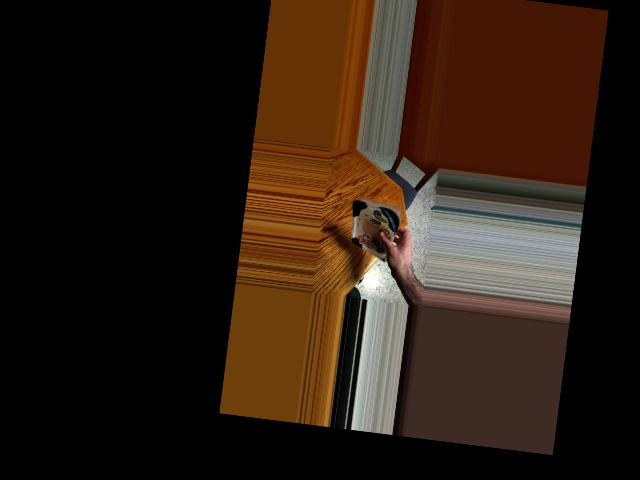cheese: (350, 195, 404, 252)
